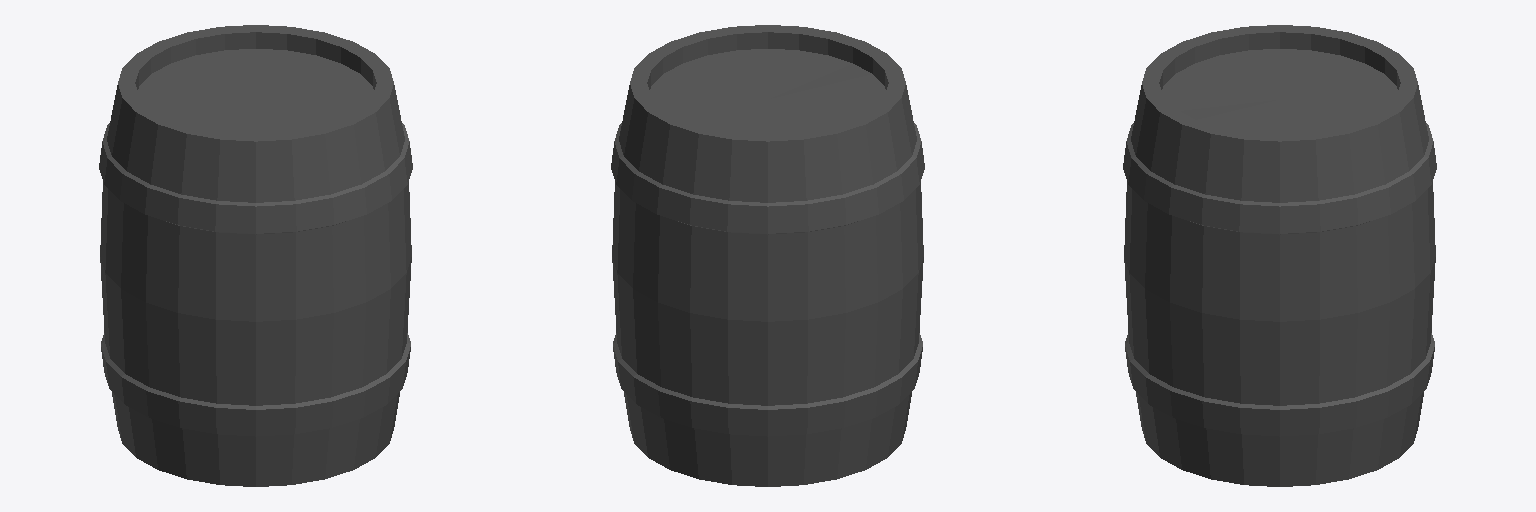
The model's file is barrel.obj.
3 renders of one model, left to right at view 1: azimuth 30°, elevation 25°; view 2: azimuth 150°, elevation 25°; view 3: azimuth 270°, elevation 25°, orthographic.
Visible parts, largest first — view 1: Barrel; view 2: Barrel; view 3: Barrel.
Part boxes in pixels (x1,y1,x2,y2): Barrel: (99,25,412,486); Barrel: (611,25,924,486); Barrel: (1123,25,1436,486).
Bounding box in the file's own units: 2.14 × 2.59 × 2.14.